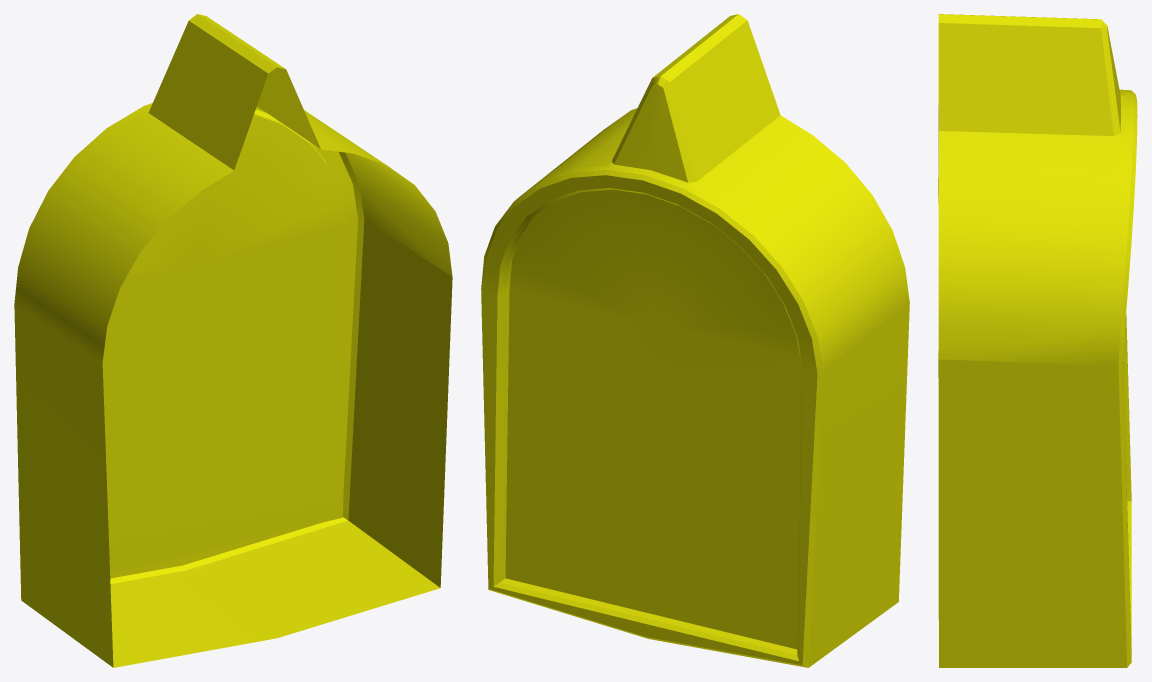
The model's file is Inside_Wigdrasil_Lab.fbx.
The picture shows the model from 3 angles, left to right: view 1: azimuth 30°, elevation 25°; view 2: azimuth 150°, elevation 25°; view 3: azimuth 270°, elevation 25°; orthographic projection. The views are drawn at different scales.
Visible parts, largest first — view 1: polySurface472; view 2: polySurface472; view 3: polySurface472.
Part boxes in pixels (box(x1,y1,x2,y2)): polySurface472: box(14, 14, 452, 667); polySurface472: box(481, 14, 909, 667); polySurface472: box(938, 14, 1137, 667).
Bounding box in the file's own units: 87.25 × 136 × 42.11.
